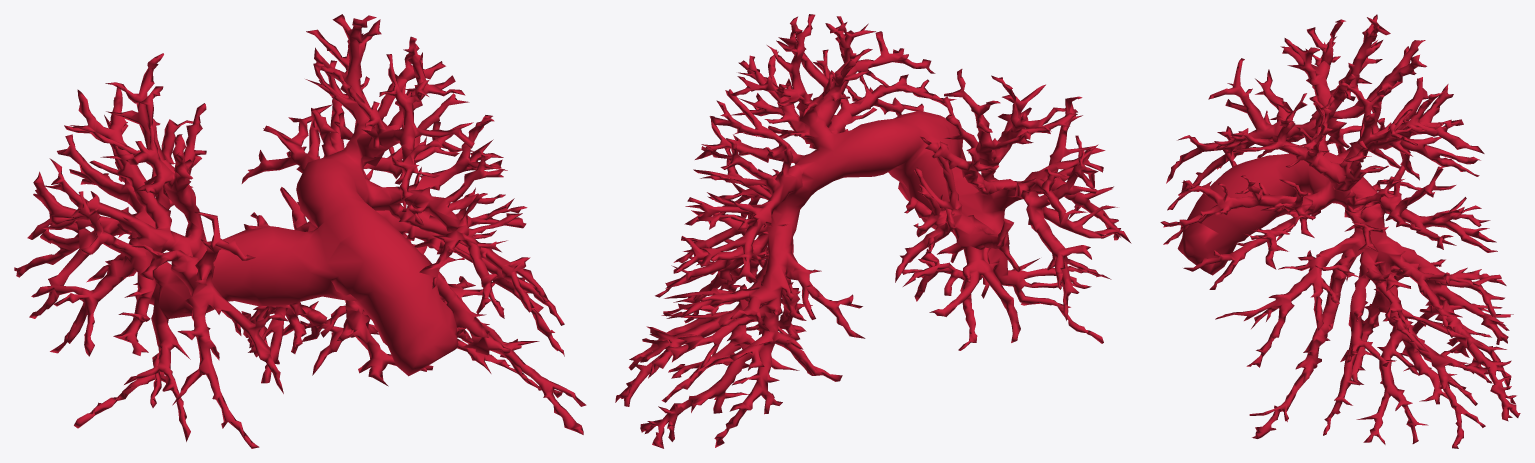
The picture shows the model from 3 angles, left to right: view 1: azimuth 30°, elevation 25°; view 2: azimuth 150°, elevation 25°; view 3: azimuth 270°, elevation 25°; orthographic projection. The views are drawn at different scales.
Visible parts, largest first — view 1: Polygonal_Model_3_Triangles_0; view 2: Polygonal_Model_3_Triangles_0; view 3: Polygonal_Model_3_Triangles_0.
Part boxes in pixels (box(x1,y1,x2,y2)): Polygonal_Model_3_Triangles_0: box(14, 14, 586, 448); Polygonal_Model_3_Triangles_0: box(615, 14, 1131, 448); Polygonal_Model_3_Triangles_0: box(1160, 14, 1520, 448).
Bounding box in the file's own units: 8.65 × 7.17 × 7.47.
